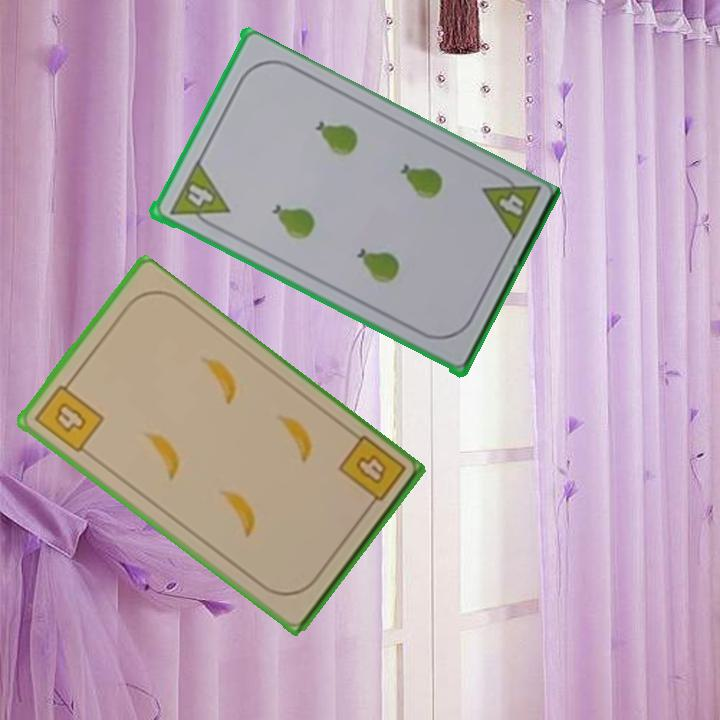4b: (30, 375, 107, 456), (334, 432, 409, 515)
4p: (179, 160, 231, 212), (494, 190, 527, 219)
